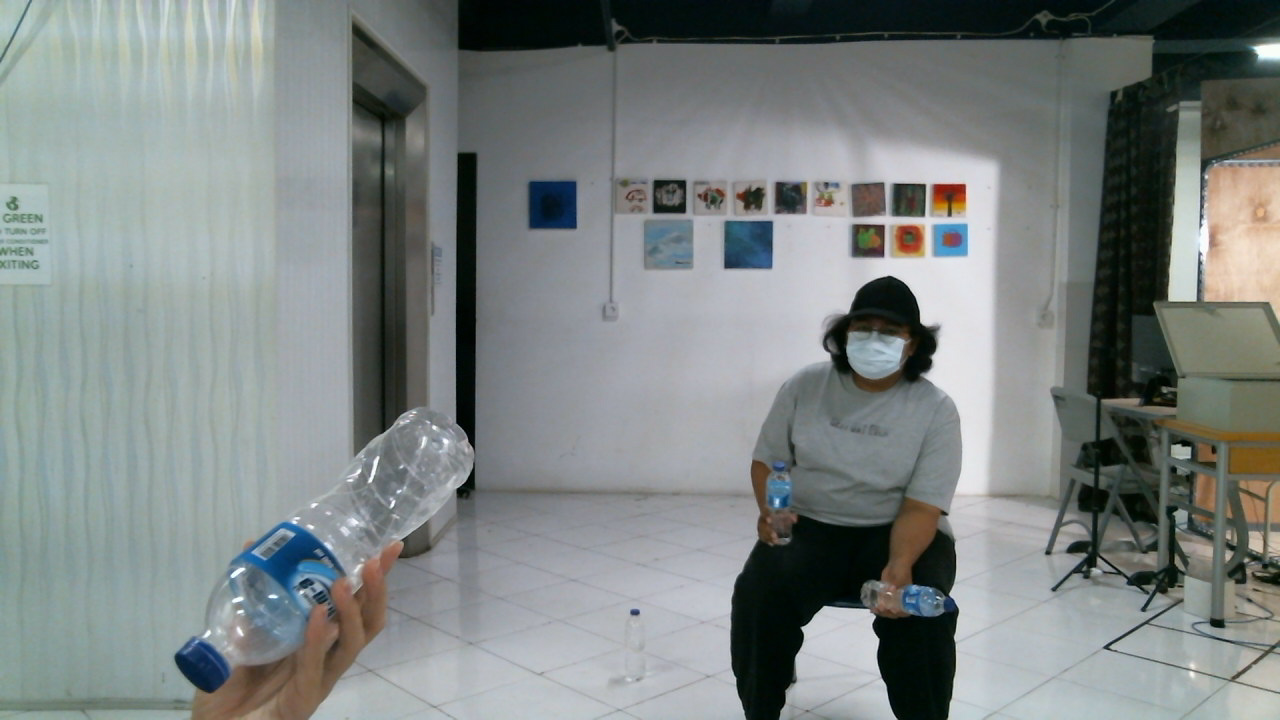Bottle: (178, 407, 471, 692)
